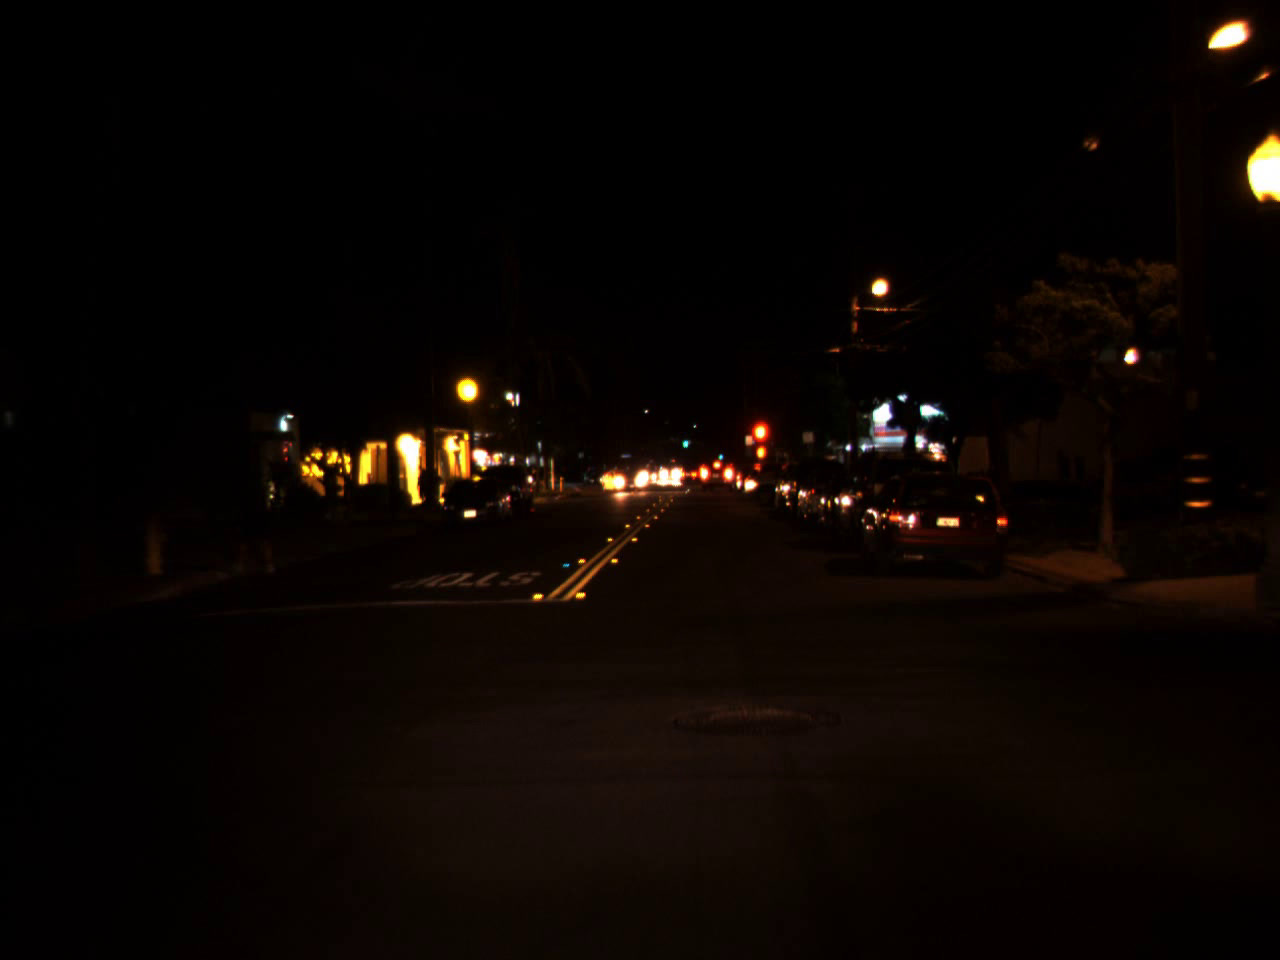go: (681, 433, 690, 448), (715, 447, 724, 462)
stop: (748, 417, 772, 471)
